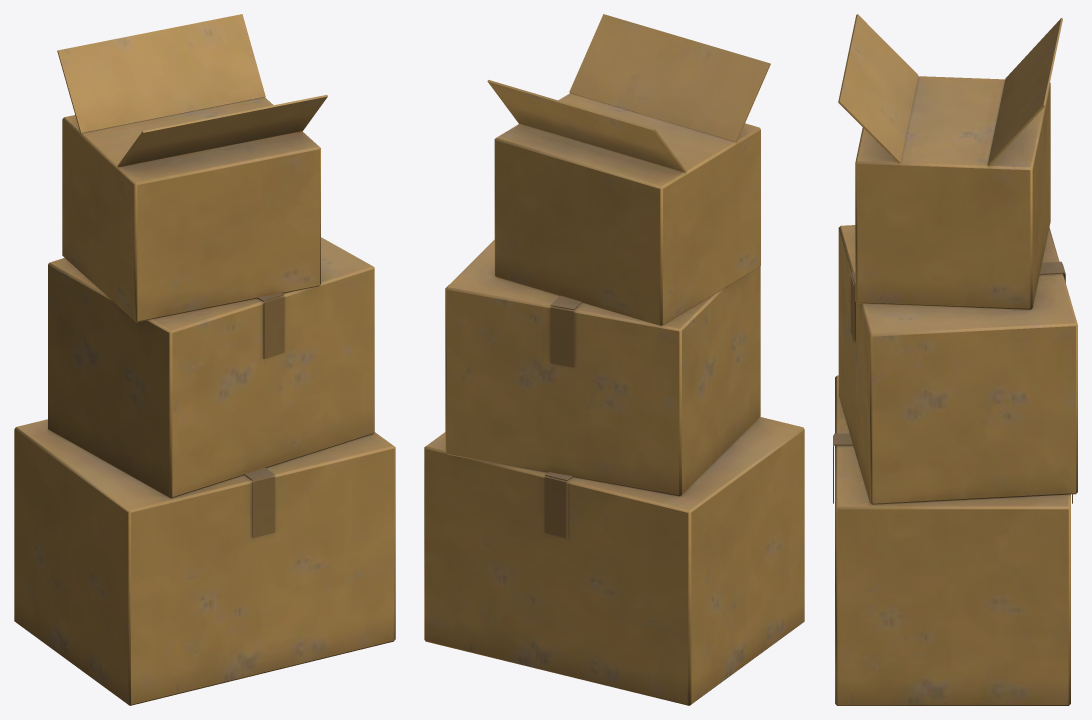
File: boxes_stack-low.glb
The picture shows the model from 3 angles, left to right: view 1: azimuth 30°, elevation 25°; view 2: azimuth 150°, elevation 25°; view 3: azimuth 270°, elevation 25°; orthographic projection.
Visible parts, largest first — view 1: boxes_stack-low; view 2: boxes_stack-low; view 3: boxes_stack-low.
Boxes of the visible parts, <box> form: boxes_stack-low: <box>14,14,395,705</box>; boxes_stack-low: <box>424,14,804,705</box>; boxes_stack-low: <box>833,14,1077,705</box>.
Bounding box in the file's own units: 0.6 × 1.21 × 0.4675.
Materials: 1 (1 with a texture image).
